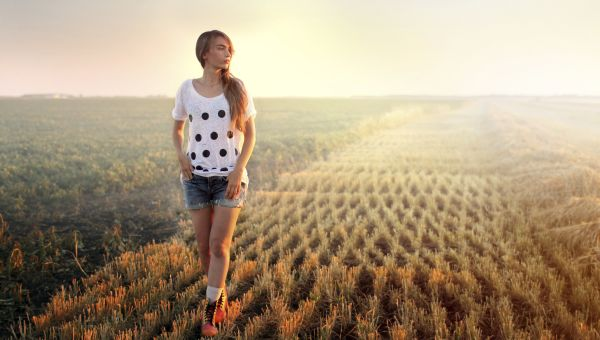Person: (173, 26, 259, 333)
